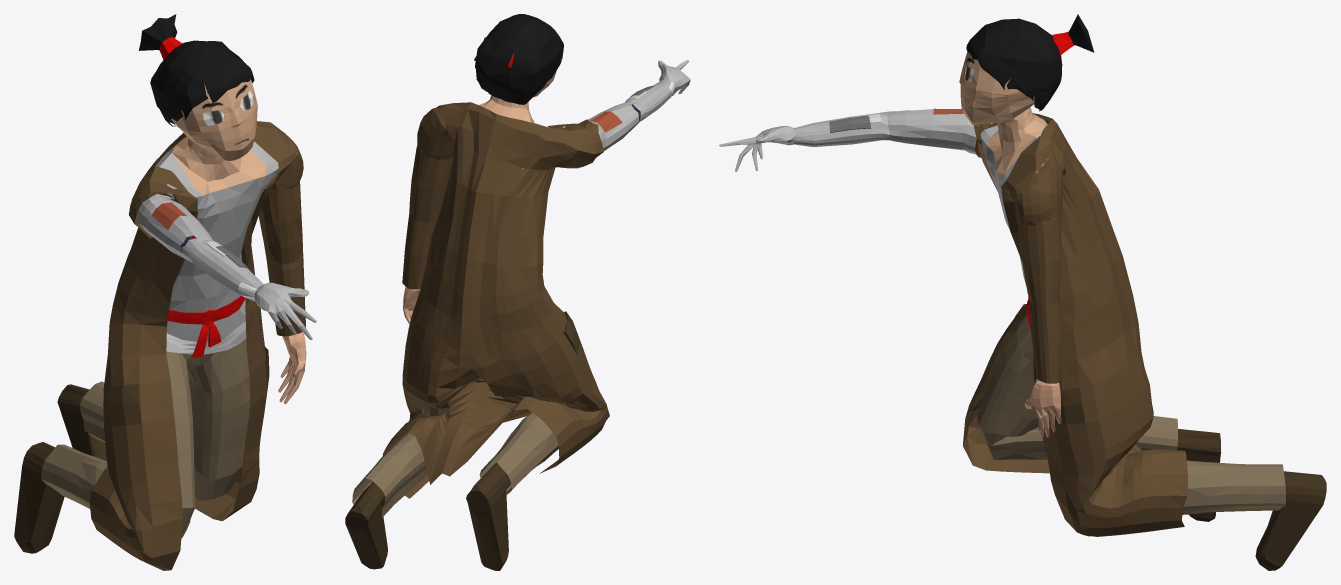
The model's file is One_Die_000031.obj.
The picture shows the model from 3 angles, left to right: view 1: azimuth 30°, elevation 25°; view 2: azimuth 150°, elevation 25°; view 3: azimuth 270°, elevation 25°; orthographic projection. The views are drawn at different scales.
Parts seen in each view (by area): view 1: Hair_Cube.004; view 2: Hair_Cube.004; view 3: Hair_Cube.004.
Part boxes in pixels (<box>): Hair_Cube.004: <box>14,14,316,570</box>; Hair_Cube.004: <box>345,14,690,570</box>; Hair_Cube.004: <box>719,14,1326,570</box>.
Bounding box in the file's own units: 1.15 × 3.03 × 3.12.
